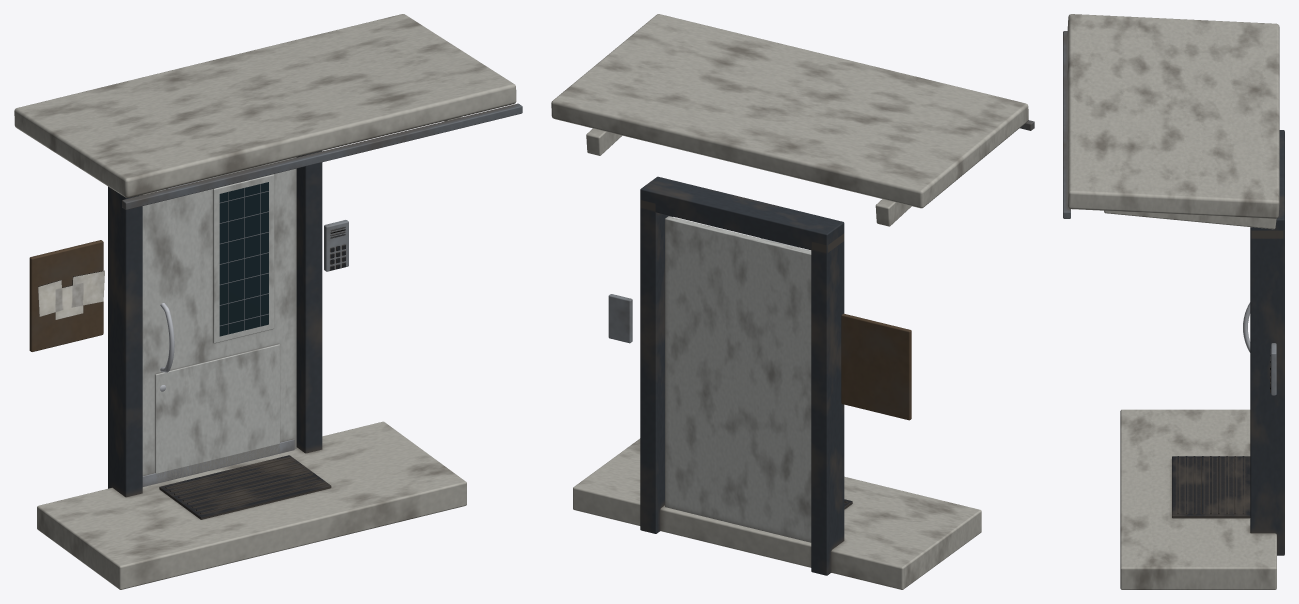
The model's file is ul_wejscie.glb.
3 views of the same model, side by side, from view 1: azimuth 30°, elevation 25°; view 2: azimuth 150°, elevation 25°; view 3: azimuth 270°, elevation 25° (orthographic). The views are drawn at different scales.
Parts seen in each view (by area): view 1: Wejscie, TintSkrzydlo, Okucia; view 2: Wejscie, TintSkrzydlo; view 3: Wejscie.
Part boxes in pixels (box(x1,y1,x2,y2)): Wejscie: box(14, 14, 522, 589); TintSkrzydlo: box(142, 157, 296, 486); Okucia: box(160, 180, 268, 391); Wejscie: box(551, 14, 1034, 589); TintSkrzydlo: box(665, 216, 811, 542); Wejscie: box(1063, 14, 1284, 589).
Size of the model in its own units: 2.74 by 2.88 by 1.42.
6 materials, 2 textured.
